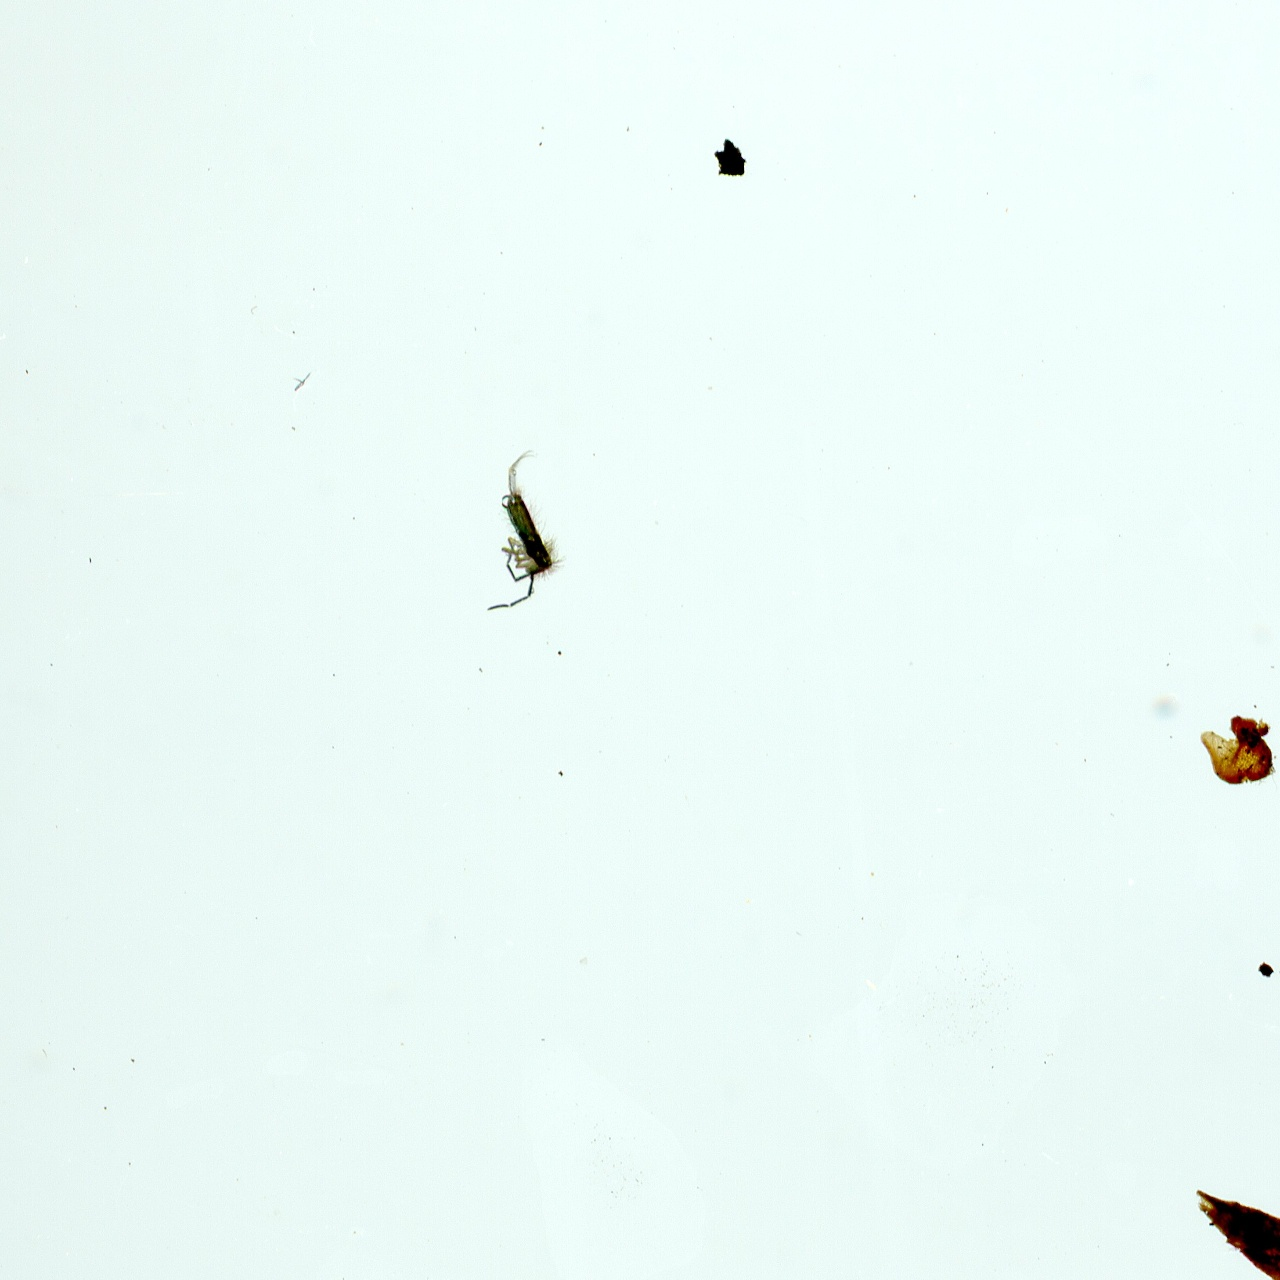arthropod: (428, 441, 599, 627)
